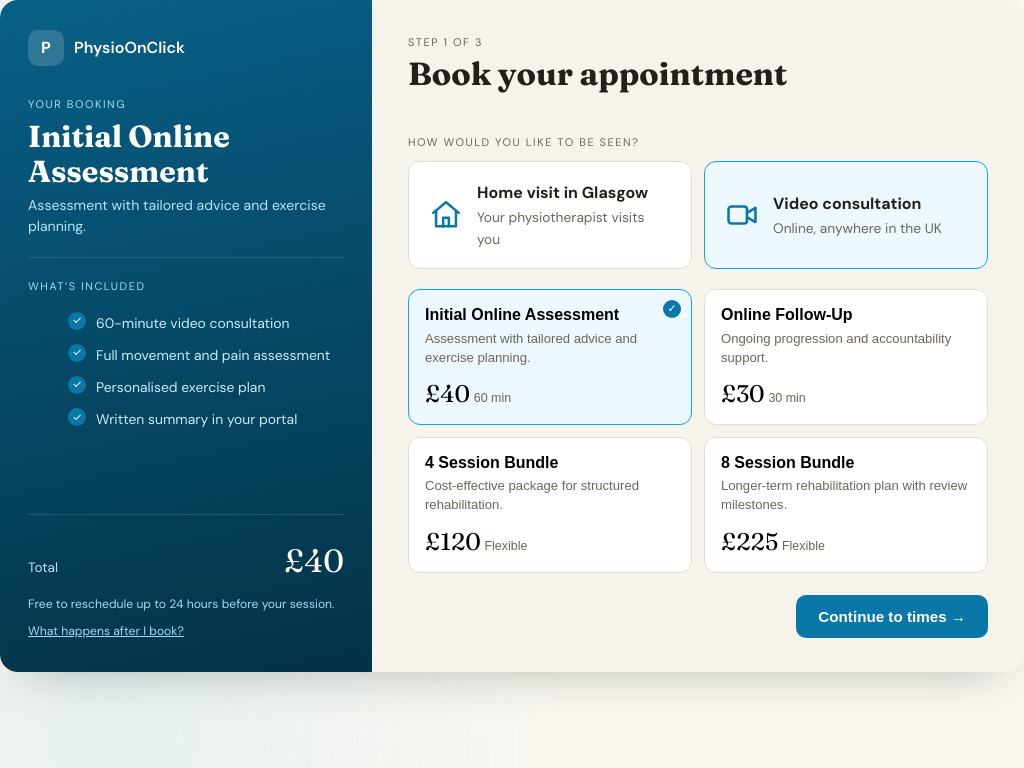
Test: booking visit type › leaves travel out of the rail until the postcode is covered
Click the radio button labelled "Home visit in Glasgow Your physiotherapist visits you" at (550, 215), box left=408, top=161, right=692, bottom=269
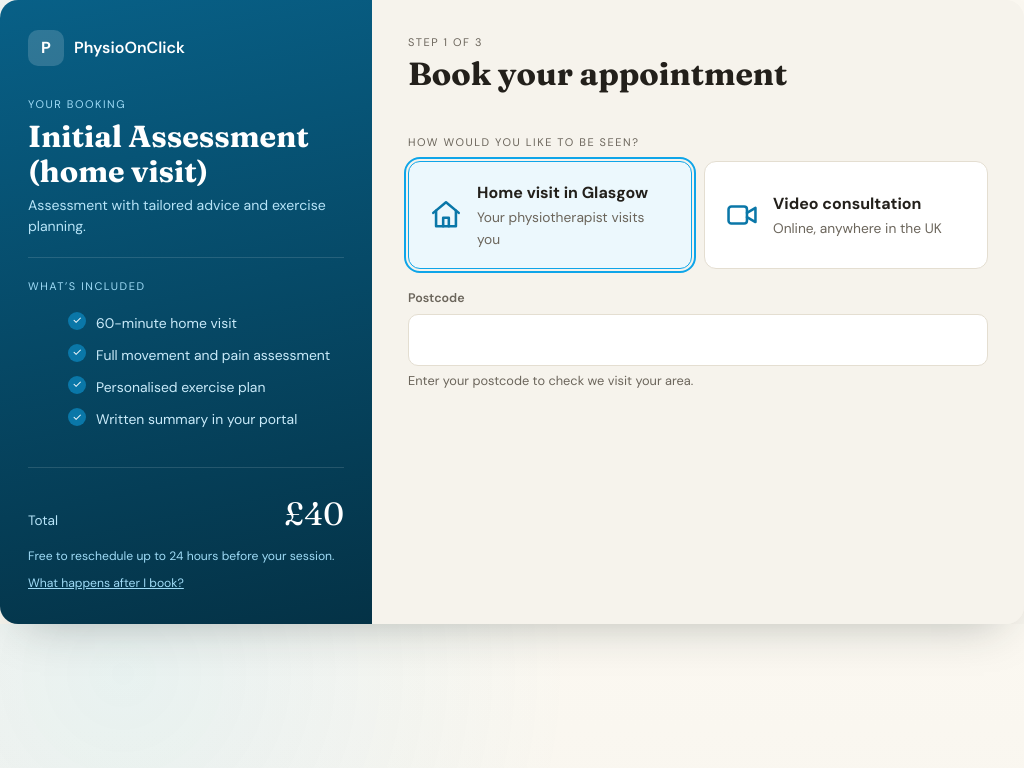
Type "EH1 1AA" into the field labelled "Postcode" at (698, 340), box left=408, top=314, right=988, bottom=366
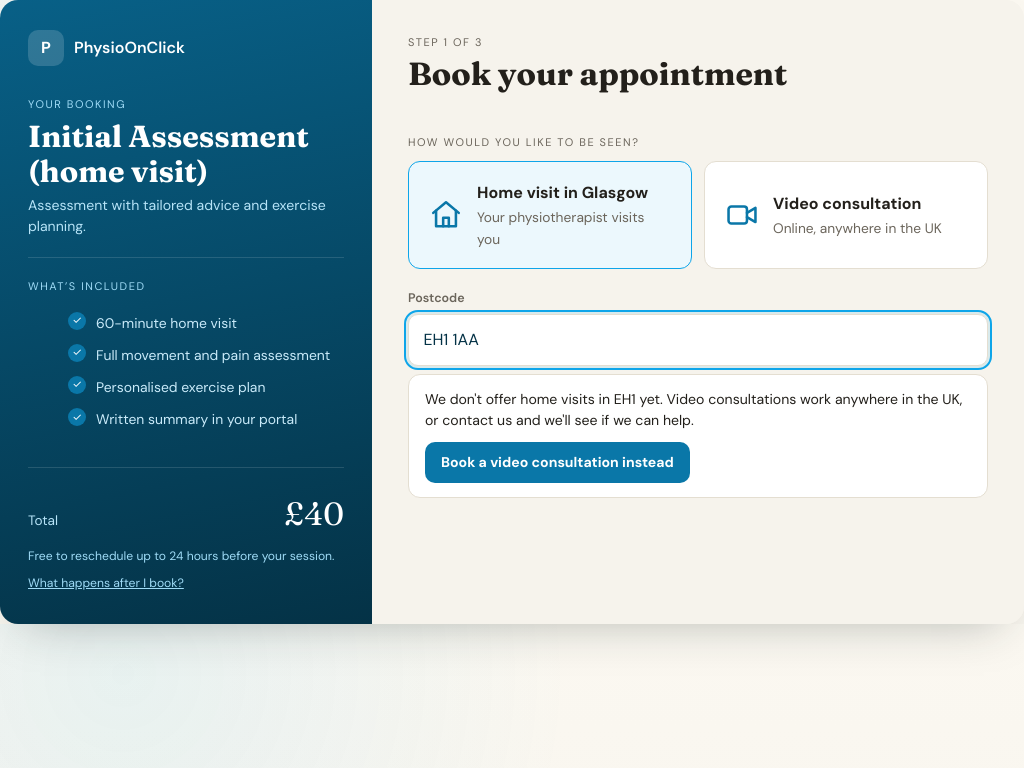
Replace the text in the field labelled "Postcode" with "G31 4HS" at (698, 340), box left=408, top=314, right=988, bottom=366
(page scrolled)
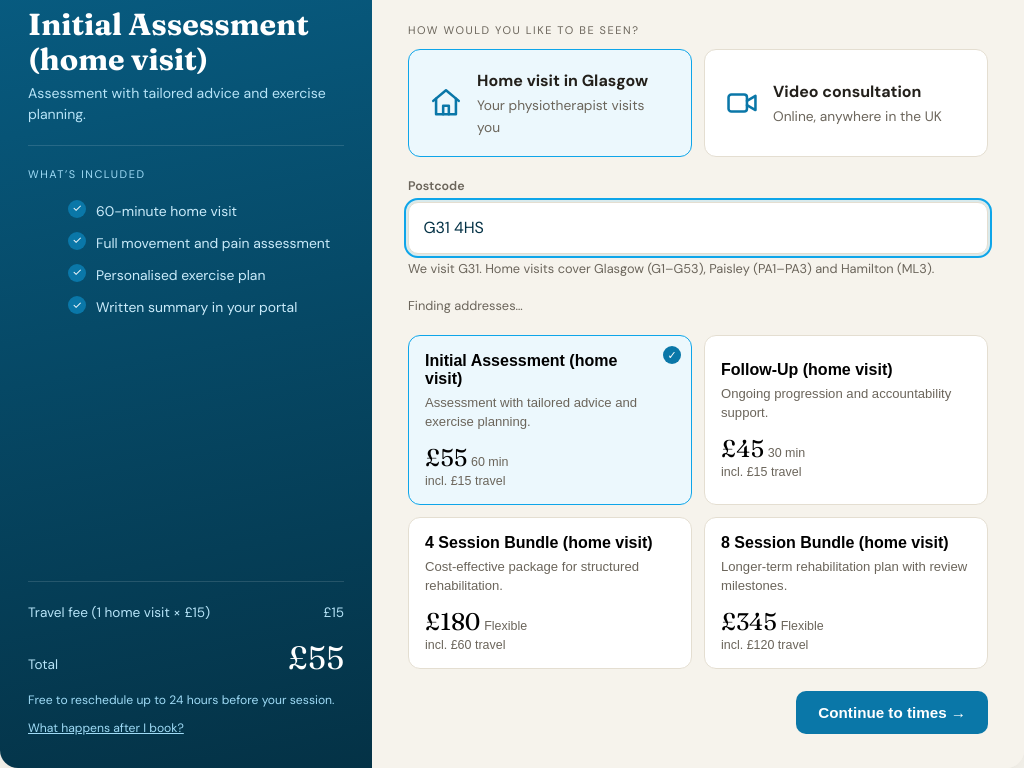
Check: the element with class "book-rail-travel" shows "Travel fee (1 home visit × £15)", box left=28, top=604, right=210, bottom=621
Check: the text with class "book-rail-total-price" reads "£55", box left=288, top=638, right=344, bottom=677
